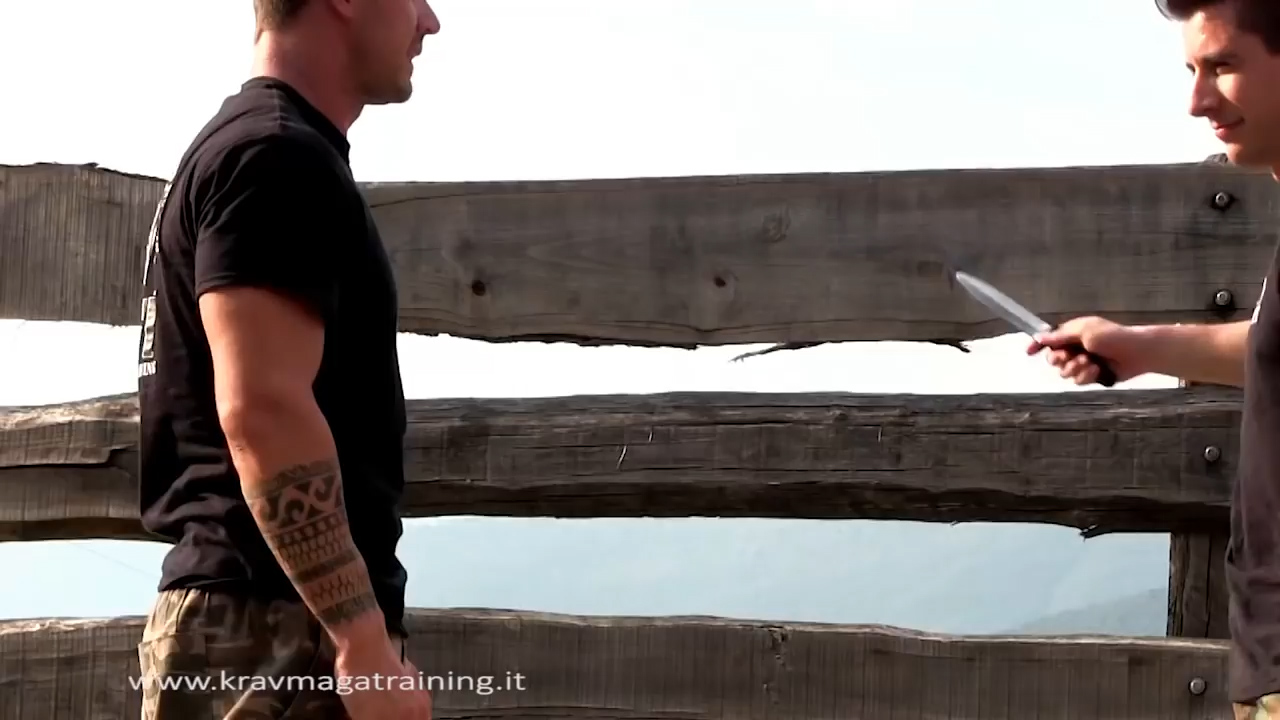knife: (943, 260, 1130, 398)
